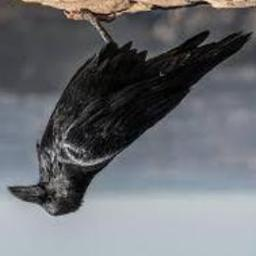Crow: (8, 9, 255, 217)
